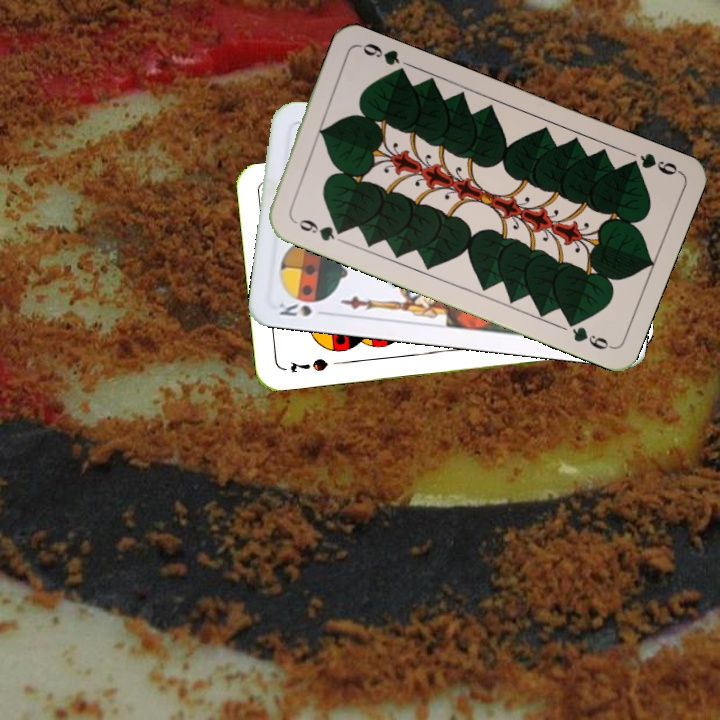G9: (287, 214, 347, 244), (622, 149, 683, 178)
S7: (286, 355, 331, 376)
SK: (275, 295, 315, 319)
